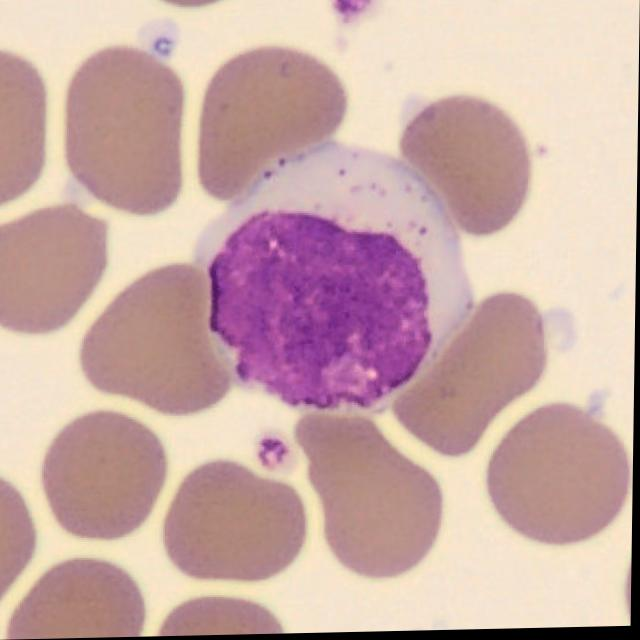Linfocito atipico: (206, 143, 476, 414)
